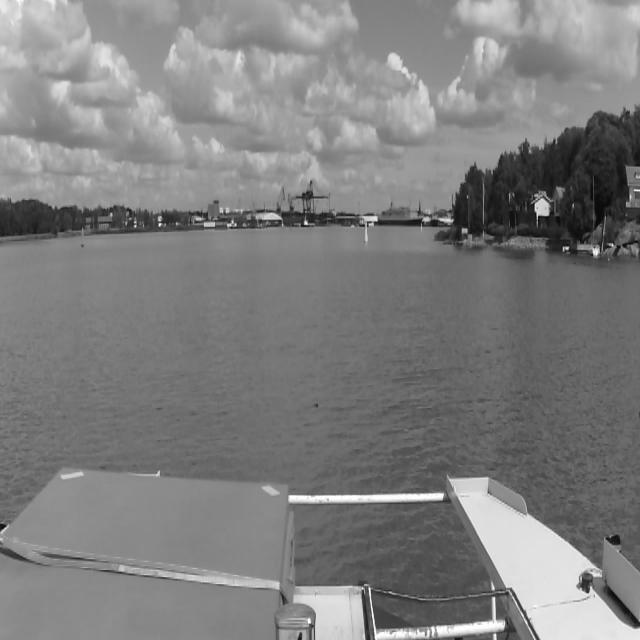buoy: (364, 221, 368, 243), (80, 228, 84, 247), (420, 223, 422, 230)
